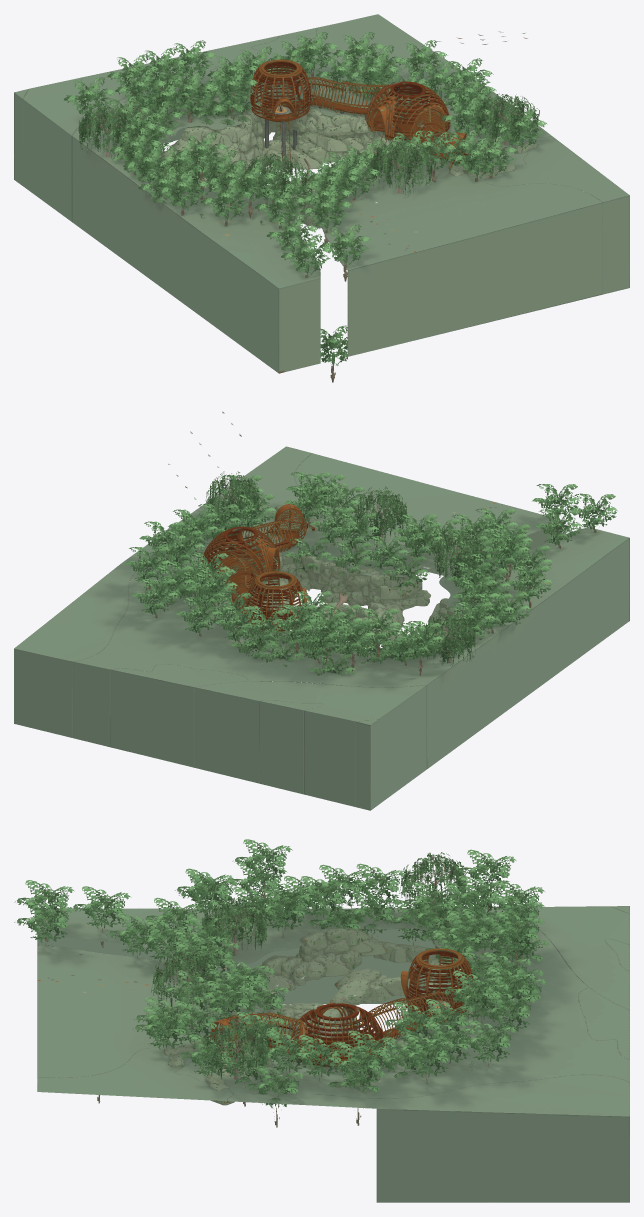
File: Tranquil-River-light.glb
The picture shows the model from 3 angles, top to bottom: view 1: azimuth 30°, elevation 25°; view 2: azimuth 150°, elevation 25°; view 3: azimuth 270°, elevation 25°; orthographic projection. The views are drawn at different scales.
Visible parts, largest first — view 1: bakegroup_zone-7, bakegroup_zone-8, bakegroup_zone-3, bakegroup_zone-5, bakegroup_zone-4, bakegroup_zone-2, bakegroup_zone-6; view 2: bakegroup_zone-7, bakegroup_zone-8, bakegroup_zone-3, bakegroup_zone-5, bakegroup_zone-4, bakegroup_zone-2, bakegroup_zone-1; view 3: bakegroup_zone-7, bakegroup_zone-8, bakegroup_zone-3, bakegroup_zone-5, bakegroup_zone-4, bakegroup_zone-2.
Boxes of the visible parts, left/top/right/bottom form: bakegroup_zone-7: left=14, top=14, right=629, bottom=373; bakegroup_zone-8: left=63, top=32, right=547, bottom=382; bakegroup_zone-3: left=366, top=81, right=450, bottom=158; bakegroup_zone-5: left=250, top=59, right=310, bottom=121; bakegroup_zone-4: left=295, top=77, right=448, bottom=160; bakegroup_zone-2: left=413, top=106, right=454, bottom=161; bakegroup_zone-6: left=265, top=106, right=408, bottom=176; bakegroup_zone-7: left=14, top=446, right=629, bottom=810; bakegroup_zone-8: left=125, top=471, right=617, bottom=675; bakegroup_zone-3: left=201, top=526, right=298, bottom=584; bakegroup_zone-5: left=246, top=571, right=307, bottom=631; bakegroup_zone-4: left=209, top=532, right=299, bottom=615; bakegroup_zone-2: left=242, top=508, right=306, bottom=552; bakegroup_zone-1: left=267, top=504, right=314, bottom=534; bakegroup_zone-7: left=37, top=906, right=629, bottom=1202; bakegroup_zone-8: left=14, top=839, right=549, bottom=1127; bakegroup_zone-3: left=231, top=1002, right=386, bottom=1066; bakegroup_zone-5: left=400, top=948, right=473, bottom=1014; bakegroup_zone-4: left=233, top=989, right=455, bottom=1064; bakegroup_zone-2: left=217, top=1012, right=302, bottom=1053.
Bounding box in the file's own units: 36.42 × 22.03 × 45.24.
Materials: 1 (1 with a texture image).
